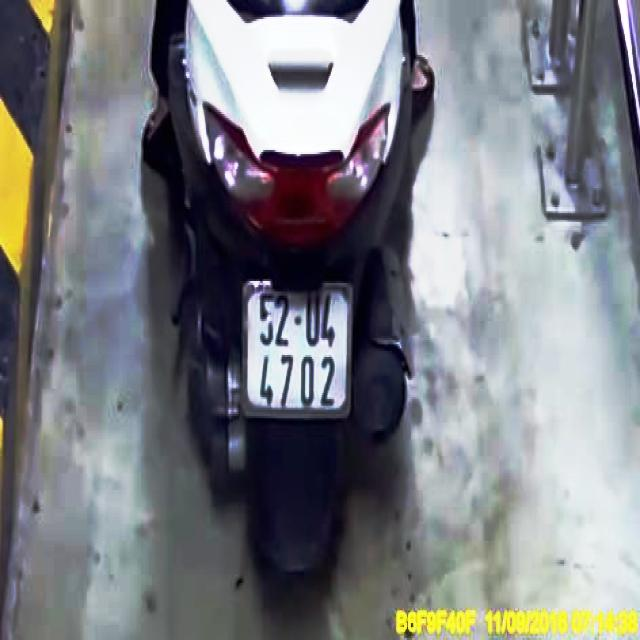license_plate: (242, 283, 353, 415)
